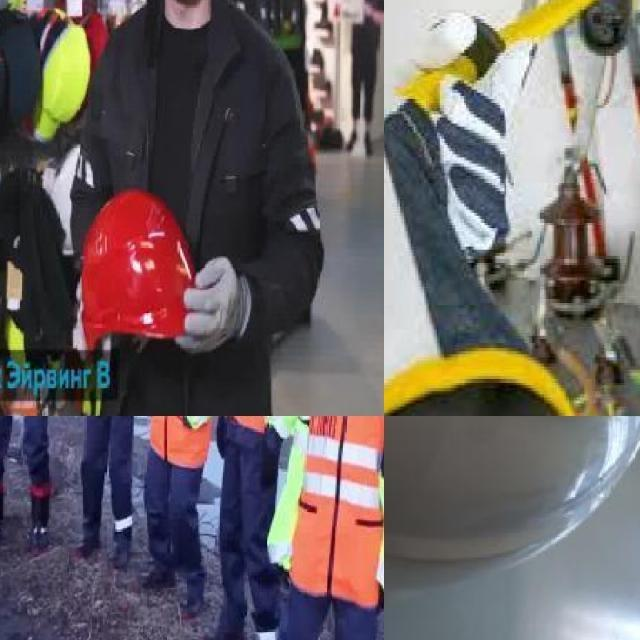apron: (384, 69, 454, 360), (176, 252, 244, 357), (217, 416, 226, 457)
